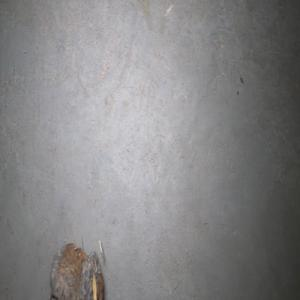Rock: (49, 236, 103, 300)
